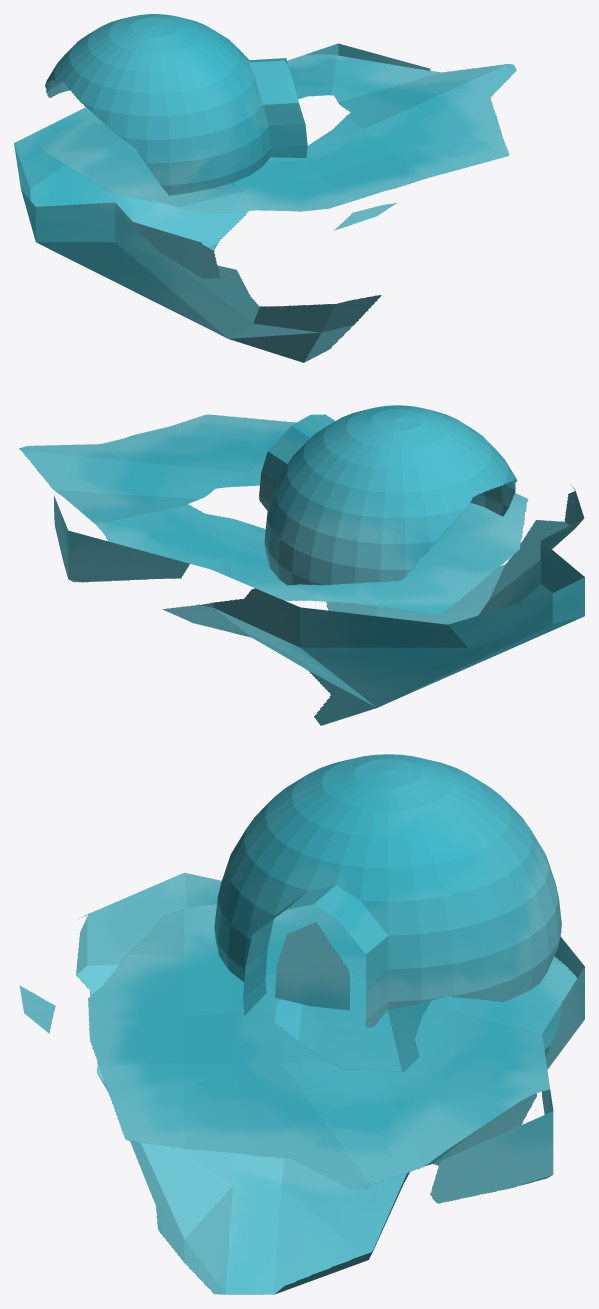
Rendered from igloo.obj.
3 renders of one model, top to bottom at view 1: azimuth 30°, elevation 25°; view 2: azimuth 150°, elevation 25°; view 3: azimuth 270°, elevation 25°, orthographic. The views are drawn at different scales.
Parts seen in each view (by area): view 1: Cube.001; view 2: Cube.001; view 3: Cube.001.
Part boxes in pixels (left/top/right/bottom): Cube.001: left=14, top=14, right=516, bottom=362; Cube.001: left=19, top=405, right=584, bottom=725; Cube.001: left=19, top=754, right=584, bottom=1294.
Size of the model in its own units: 6.46 by 3.96 by 4.47.
